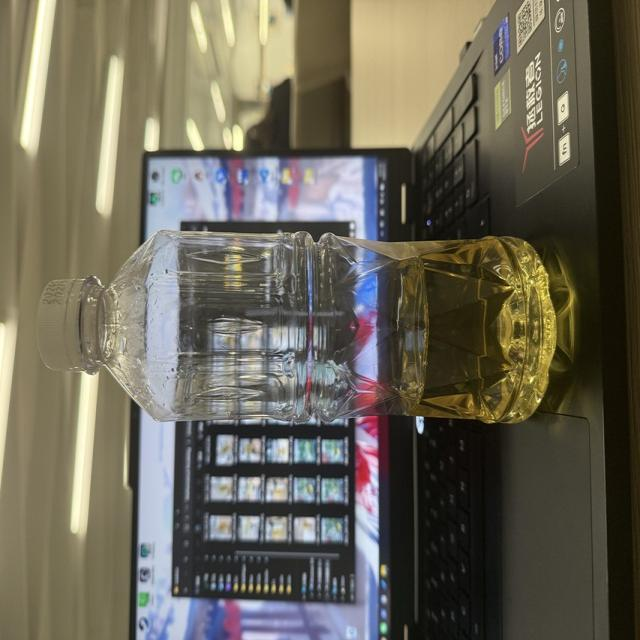low: (38, 230, 555, 422)
